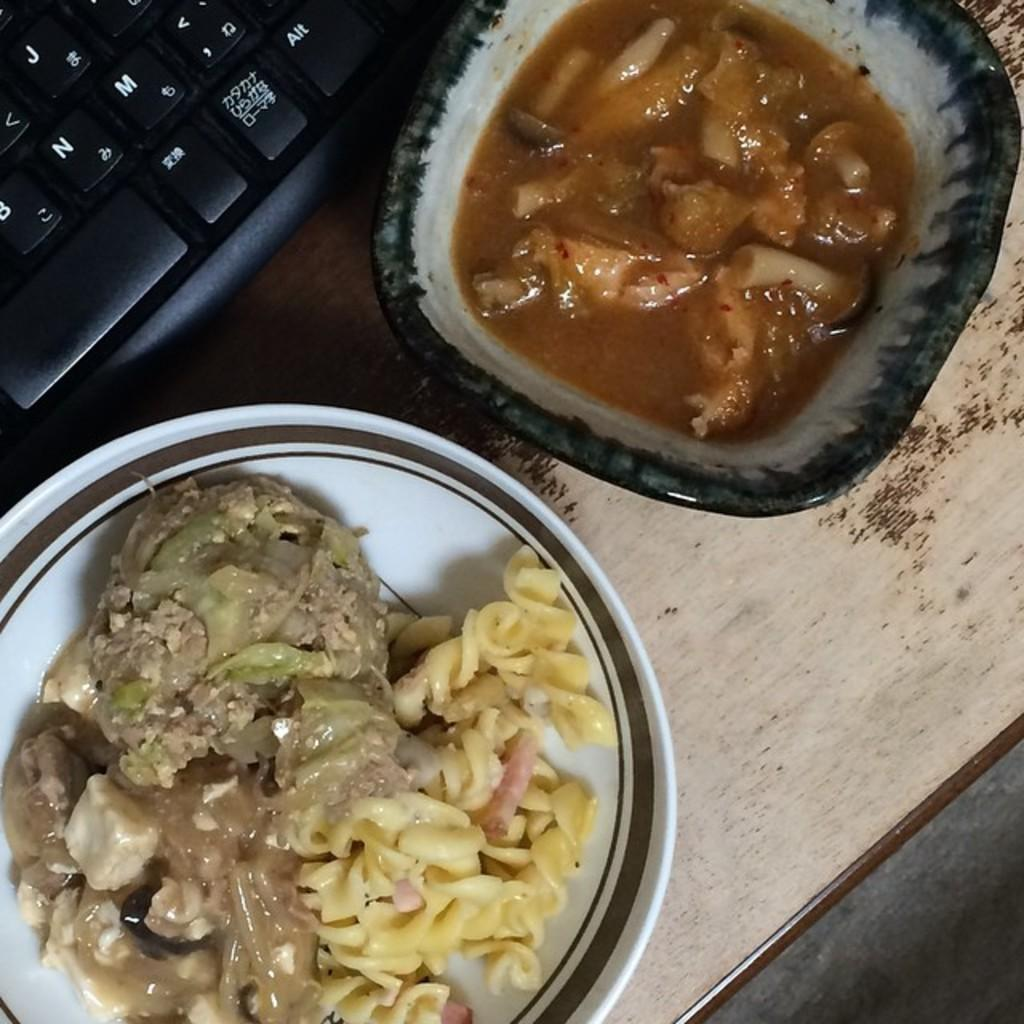Computer-keyboard: (0, 0, 466, 501)
